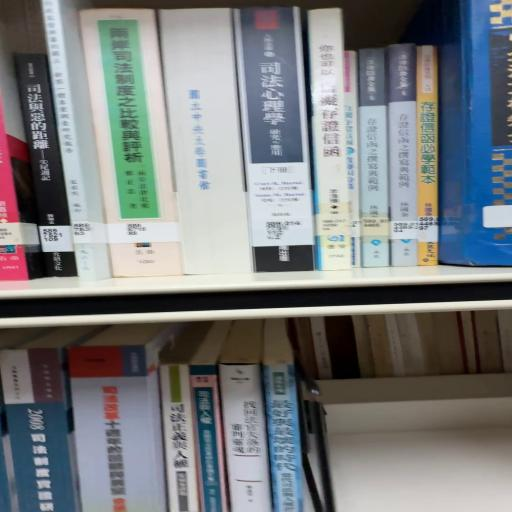backward: (164, 12, 255, 280)
book: (81, 11, 180, 224), (16, 3, 72, 281), (310, 10, 363, 278), (220, 366, 273, 512), (161, 363, 204, 512)
